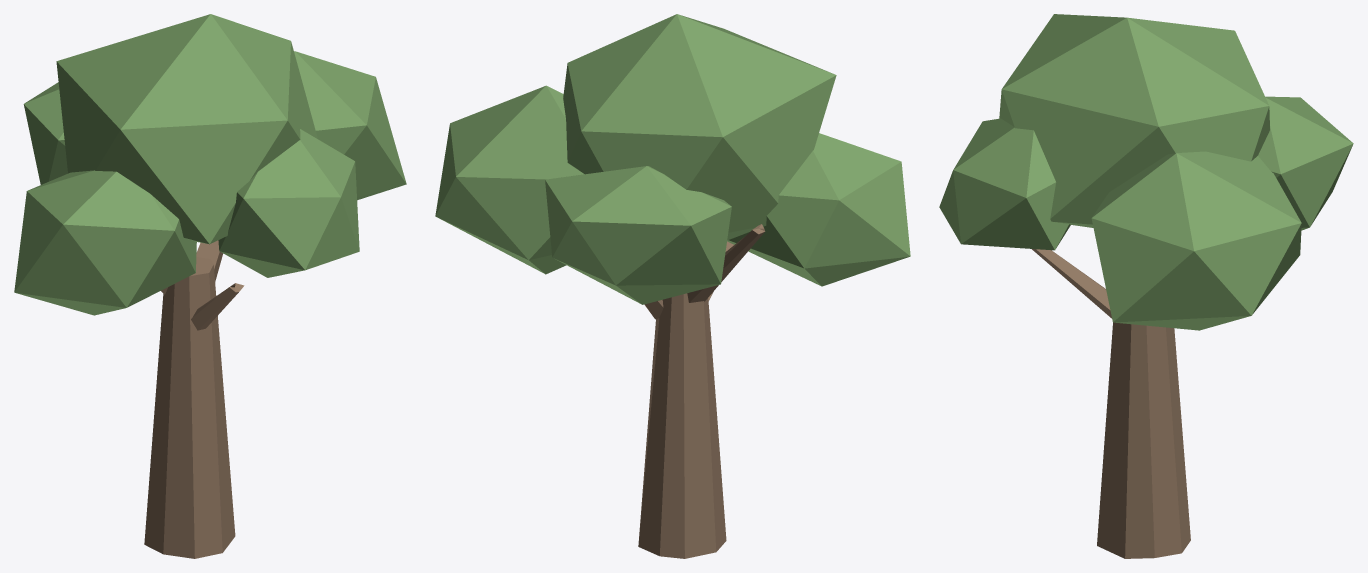
The model's file is oak.glb.
The picture shows the model from 3 angles, left to right: view 1: azimuth 30°, elevation 25°; view 2: azimuth 150°, elevation 25°; view 3: azimuth 270°, elevation 25°; orthographic projection. The views are drawn at different scales.
Visible parts, largest first — view 1: trunk; view 2: trunk; view 3: trunk.
Boxes of the visible parts, x1,y1,x2,y2 form: trunk: (14,14,406,558); trunk: (435,14,910,558); trunk: (939,14,1353,558).
Size of the model in its own units: 4.61 by 5.59 by 3.96.
